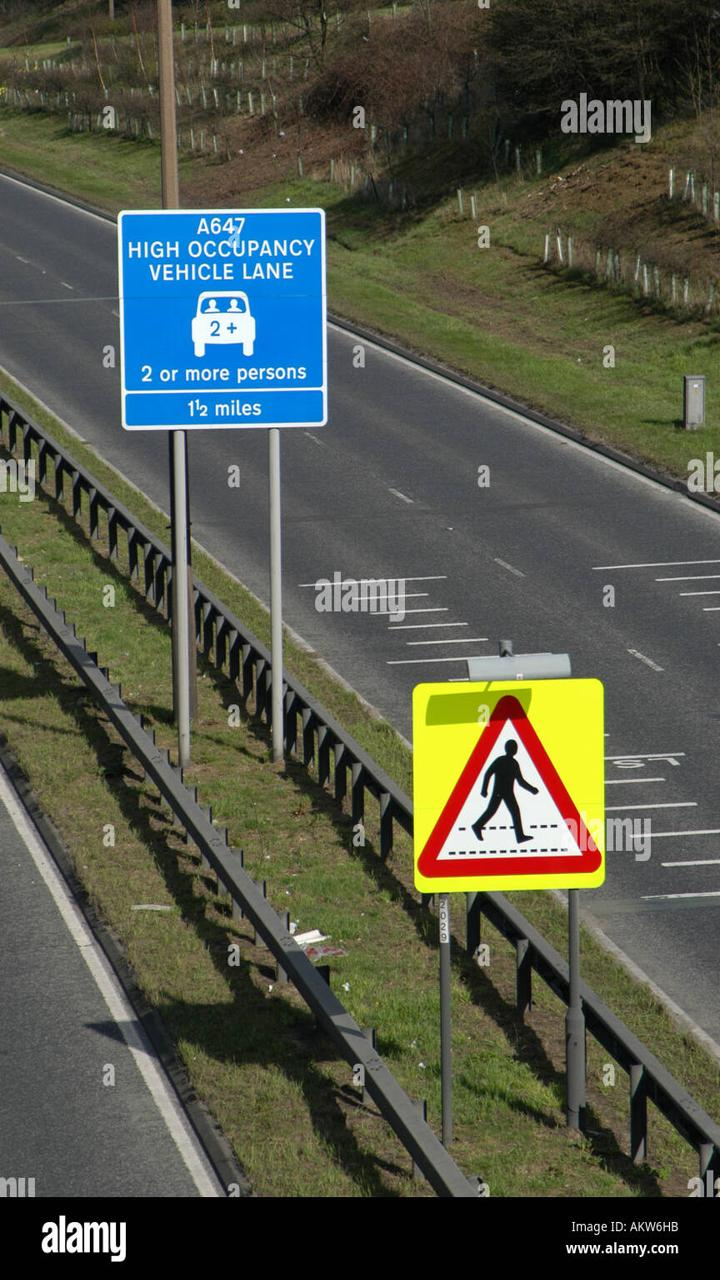Traffic sign: (118, 202, 334, 441), (394, 677, 611, 892)
